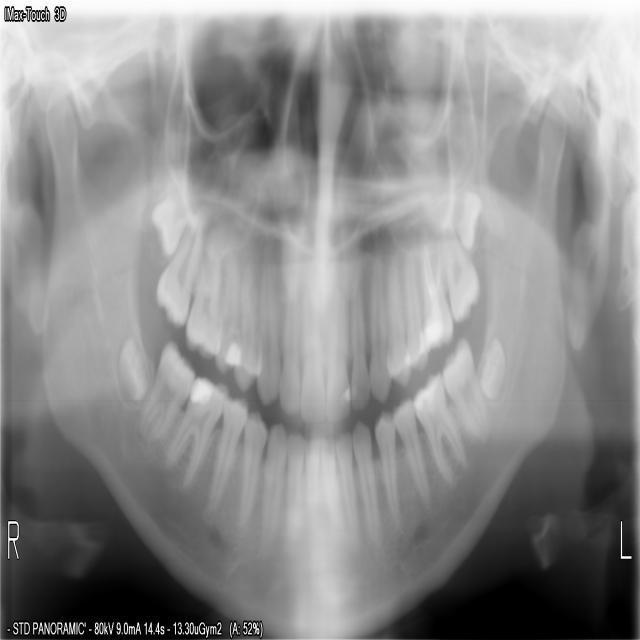LCD: (352, 414, 384, 567)
LCU: (367, 237, 390, 407)
LID: (334, 426, 362, 553), (318, 430, 343, 551)
LIU: (324, 244, 351, 426), (349, 236, 370, 411)
LMD: (413, 369, 471, 488), (441, 335, 493, 452), (476, 332, 507, 402)
LMU: (436, 210, 482, 328), (419, 220, 454, 352), (446, 167, 485, 254)
LPMD: (392, 391, 433, 518), (372, 408, 405, 536)
LPMU: (401, 227, 427, 372)
RCD: (253, 418, 284, 566)
RCU: (254, 213, 278, 410)
RID: (282, 427, 303, 559), (303, 433, 318, 540)
RIU: (298, 255, 325, 430), (275, 255, 300, 419)
RMD: (158, 366, 230, 494), (131, 334, 195, 446)
RMU: (153, 205, 205, 330), (181, 219, 224, 363), (144, 160, 196, 261)
RPMD: (202, 393, 249, 529), (235, 408, 265, 542)
RPMU: (213, 234, 241, 377)
